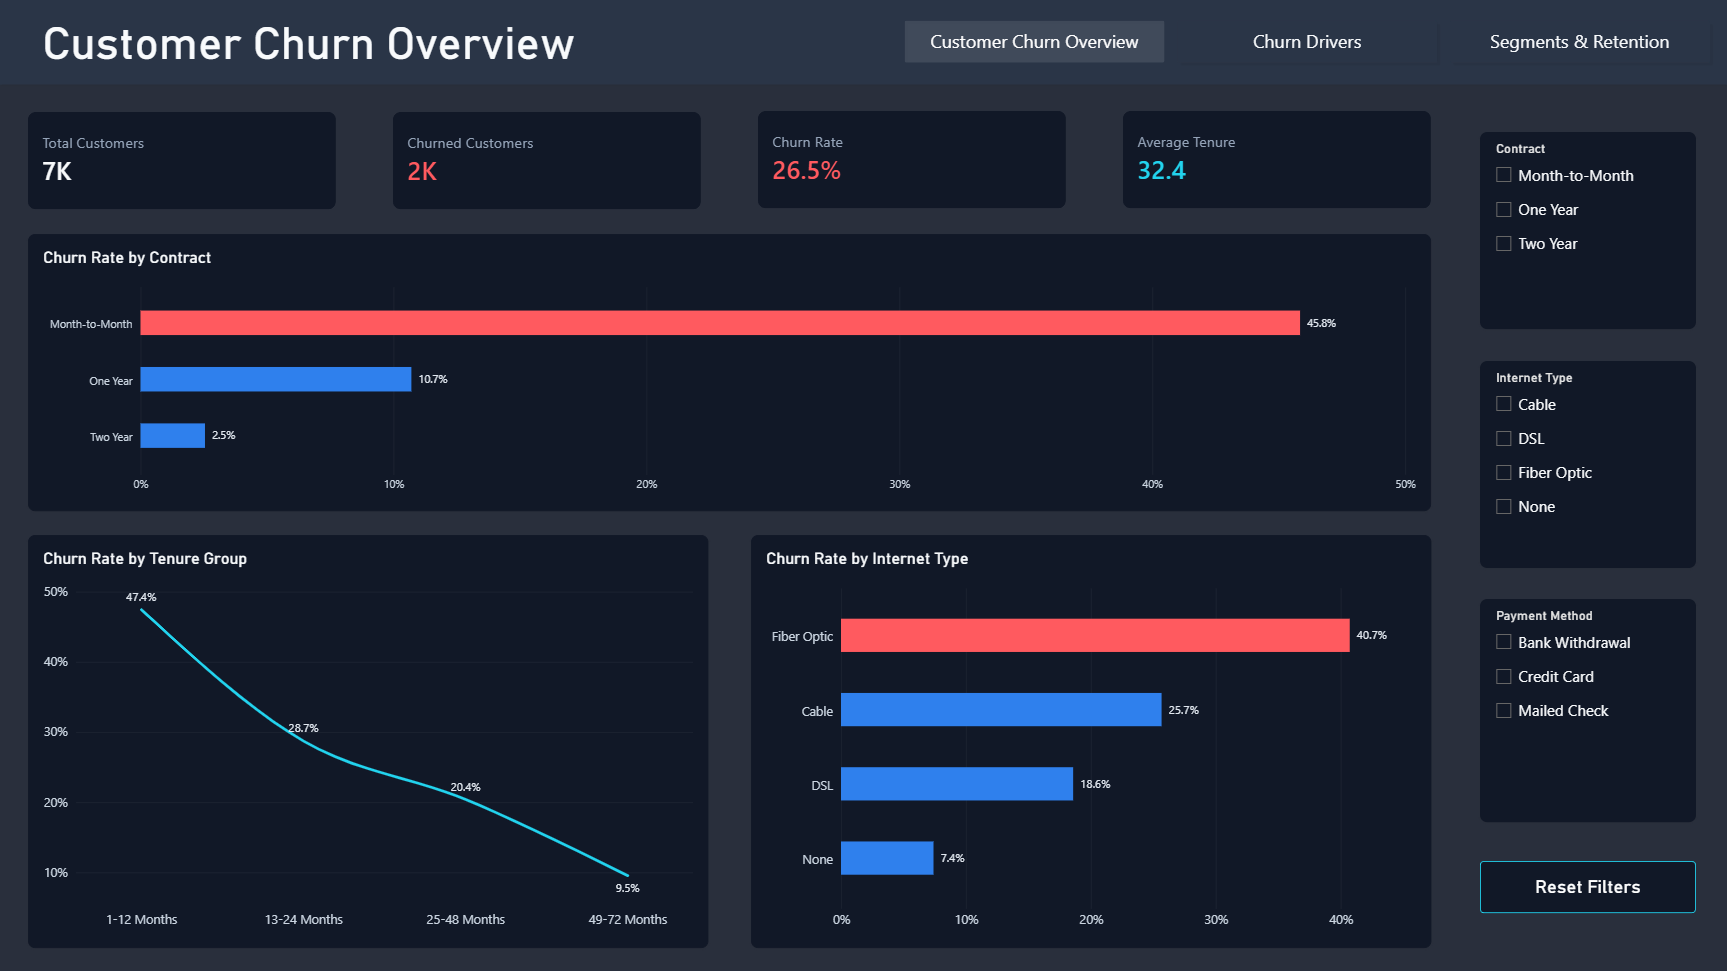

What the dashboard file says about the page in this screenshot:
{"tool":"powerbi","page":{"name":"Customer Churn Overview","canvas":[1920,1080],"ordinal":0},"visuals":[{"type":"cardVisual","fields":{"Data":["Customer_Status.Total Customers"]},"box":[31,124.9,342.8,108.9],"z":0},{"type":"cardVisual","fields":{"Data":["Customer_Status.Churned Customers"]},"box":[436.4,124.9,342.8,108.9],"z":1000},{"type":"cardVisual","fields":{"Data":["Customer_Status.Churn Rate"]},"box":[841.9,122.9,342.8,108.9],"z":2000},{"type":"cardVisual","fields":{"Data":["Customer_Status.Average Tenure"]},"box":[1247.4,122.9,342.8,108.9],"z":3000},{"type":"barChart","fields":{"Category":["Customer_Services.Contract"],"Y":["Customer_Status.Churn Rate"]},"box":[31,259.9,1559.2,307.8],"z":4000},{"type":"barChart","fields":{"Category":["Customer_Services.Internet Type"],"Y":["Customer_Status.Churn Rate"]},"box":[834.6,594.7,755.6,458.8],"z":5000},{"type":"lineChart","fields":{"Category":["Customer_Services.Tenure Group"],"Y":["Customer_Status.Churn Rate"]},"box":[31,594.7,755.6,458.8],"z":6000},{"type":"shape","box":[0,0,1920.4,94],"z":10000},{"type":"pageNavigator","box":[1000.5,18,905.5,58],"z":11000},{"type":"actionButton","box":[1644.4,956.7,239.9,58],"z":12000},{"type":"textbox","box":[47.9,18.4,648.7,67.3],"z":13000},{"type":"slicer","fields":{"Values":["Customer_Services.Contract"]},"box":[1644.4,146.7,240,218.9],"z":13001},{"type":"slicer","fields":{"Values":["Customer_Services.Internet Type"]},"box":[1644.1,400.7,239.9,229.9],"z":13002},{"type":"slicer","fields":{"Values":["Customer_Services.Payment Method"]},"box":[1644.3,665.8,239.9,247.9],"z":13003}]}

Visuals, with their boxes in screenshot pixels (x1, y1, x2, y2), scaled from the page's 1920x1080 canvas onto the 1727x971 screenshot:
cardVisual - Customer_Status.Total Customers: select_region(28, 112, 336, 210)
cardVisual - Customer_Status.Churned Customers: select_region(393, 112, 701, 210)
cardVisual - Customer_Status.Churn Rate: select_region(757, 110, 1066, 208)
cardVisual - Customer_Status.Average Tenure: select_region(1122, 110, 1430, 208)
barChart - Customer_Services.Contract x Customer_Status.Churn Rate: select_region(28, 234, 1430, 510)
barChart - Customer_Services.Internet Type x Customer_Status.Churn Rate: select_region(751, 535, 1430, 947)
lineChart - Customer_Services.Tenure Group x Customer_Status.Churn Rate: select_region(28, 535, 708, 947)
shape: select_region(0, 0, 1726, 85)
pageNavigator: select_region(900, 16, 1714, 68)
actionButton: select_region(1479, 860, 1695, 912)
textbox: select_region(43, 17, 627, 77)
slicer - Customer_Services.Contract: select_region(1479, 132, 1695, 329)
slicer - Customer_Services.Internet Type: select_region(1479, 360, 1695, 567)
slicer - Customer_Services.Payment Method: select_region(1479, 599, 1695, 821)
